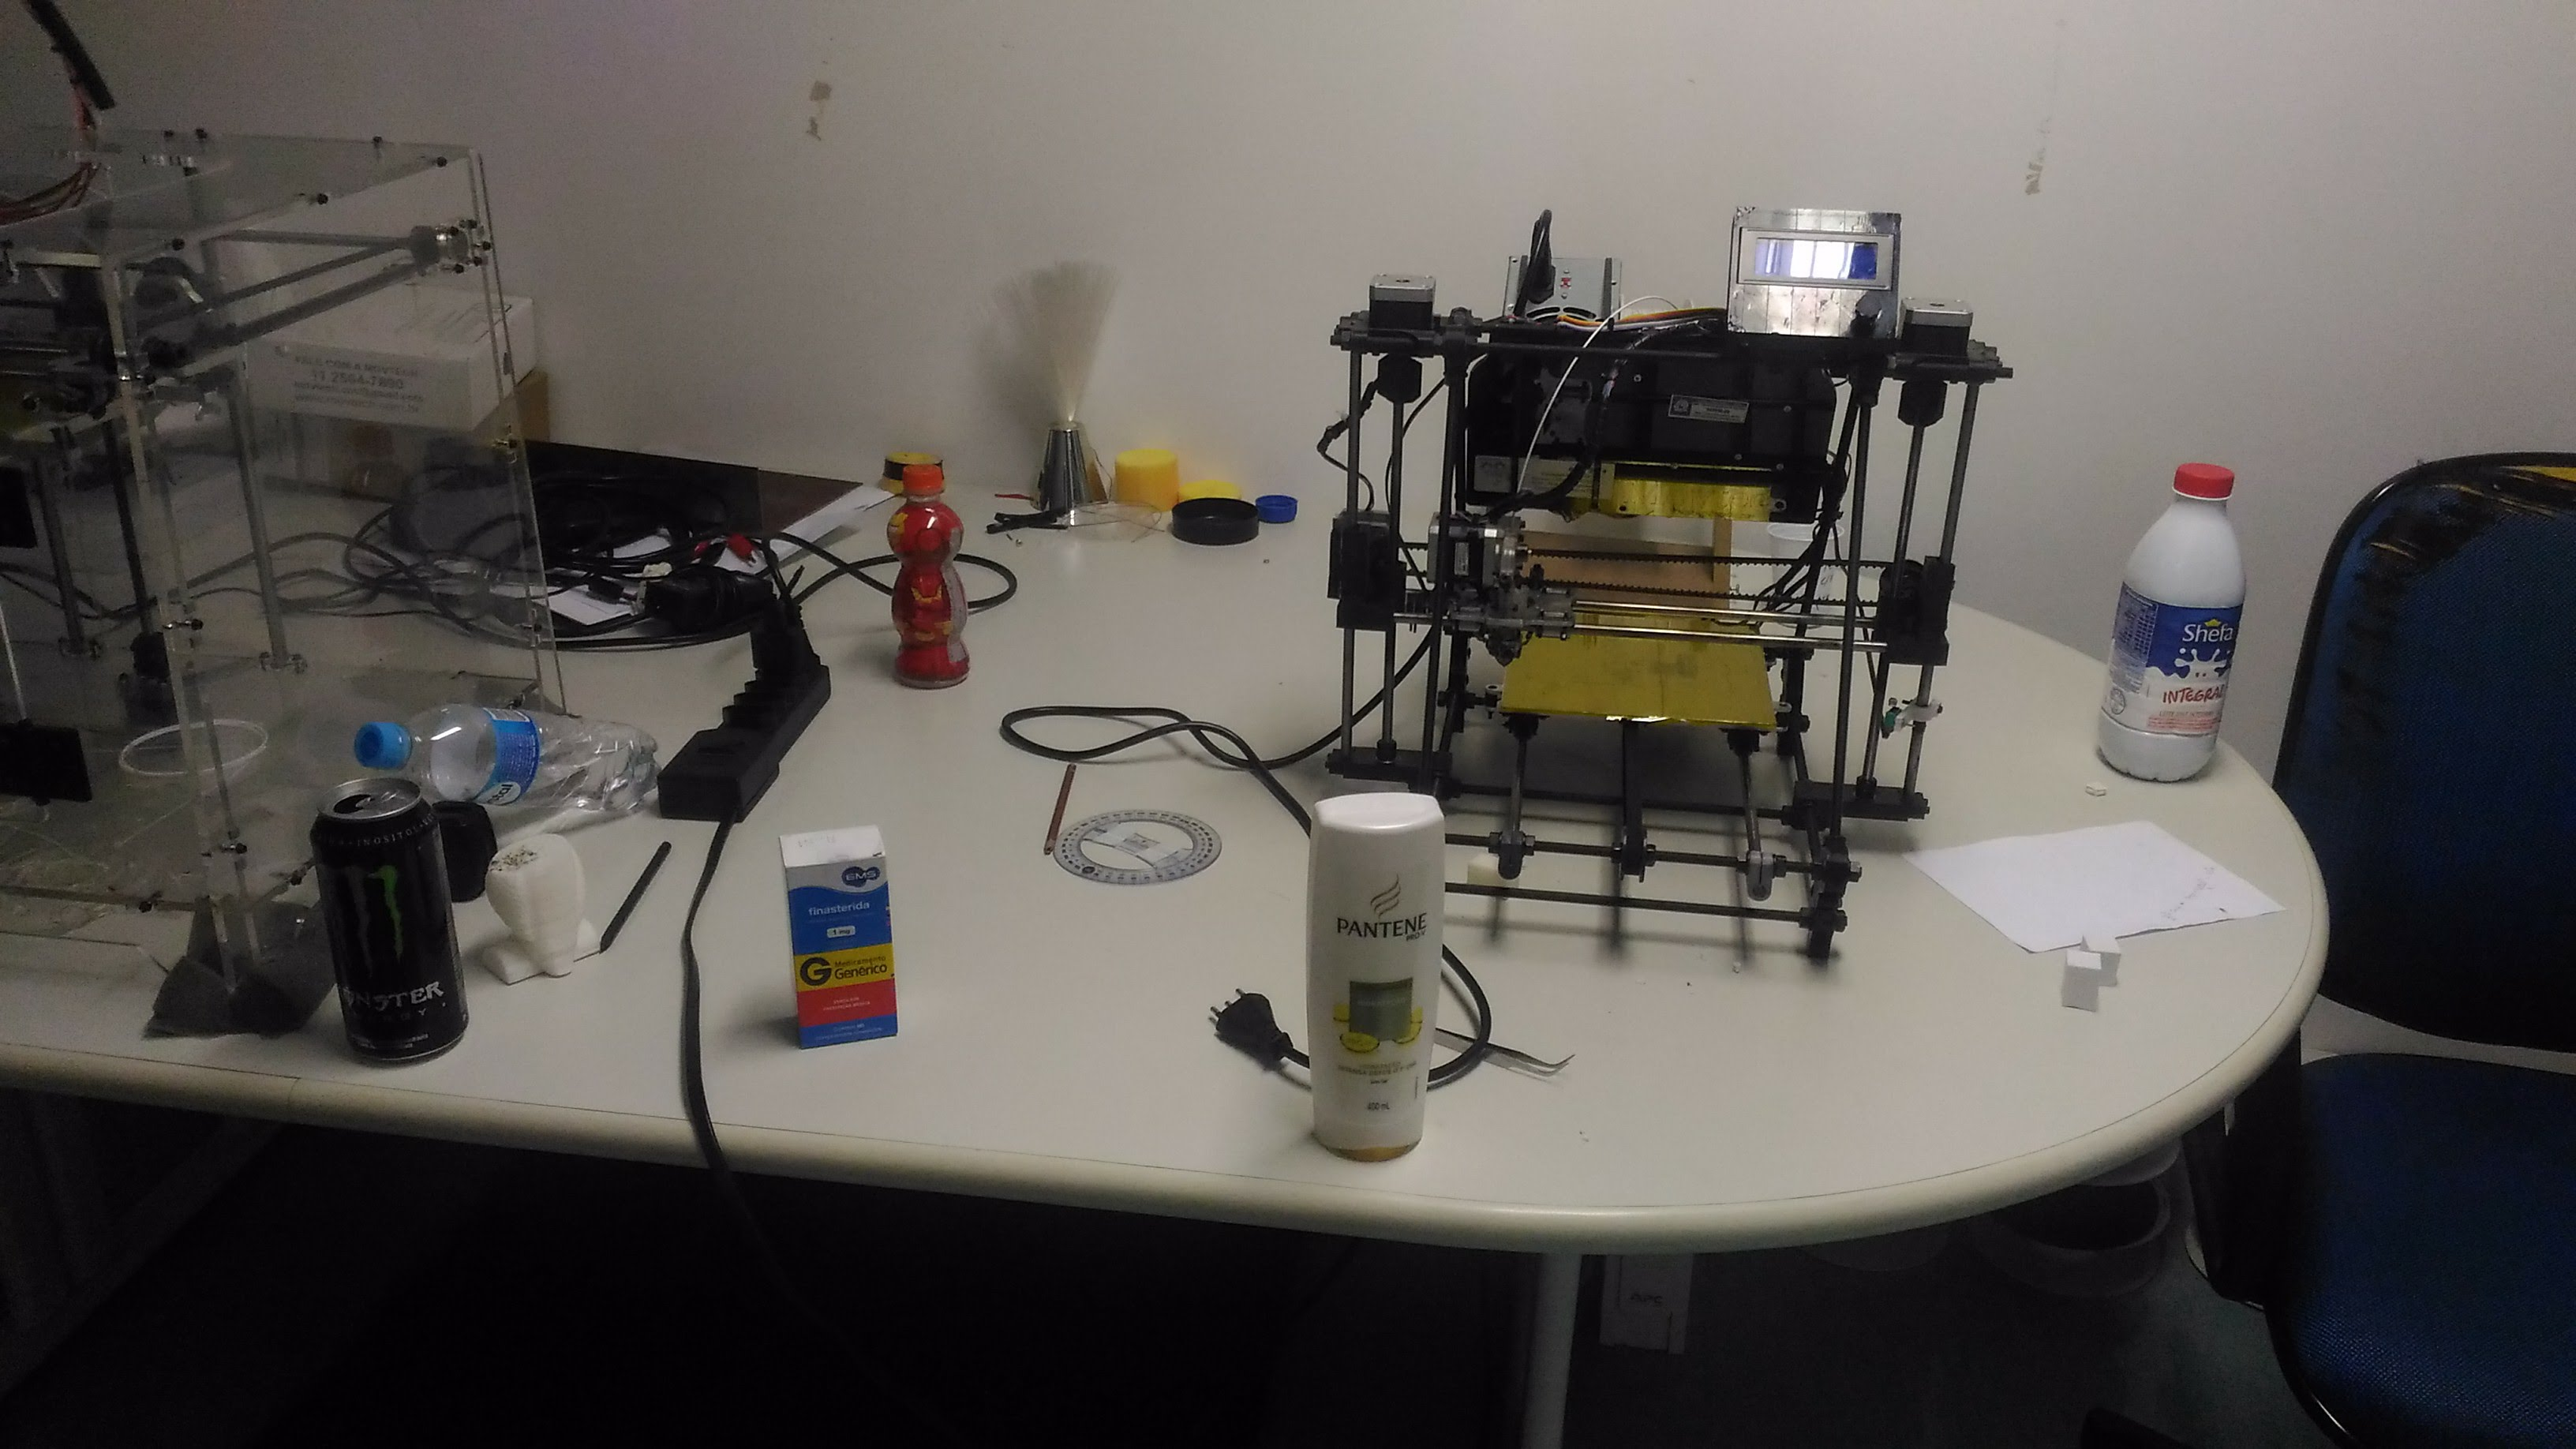iron_man: (876, 455, 980, 691)
medicine: (768, 816, 905, 1065)
milk_bottle: (2093, 450, 2251, 795)
monster: (307, 766, 481, 1069)
shampoo: (1292, 787, 1450, 1173)
